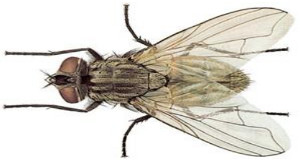house fly: (3, 2, 293, 160)
